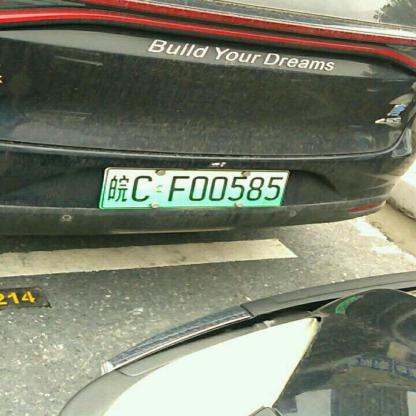lp: (99, 168, 288, 208)
